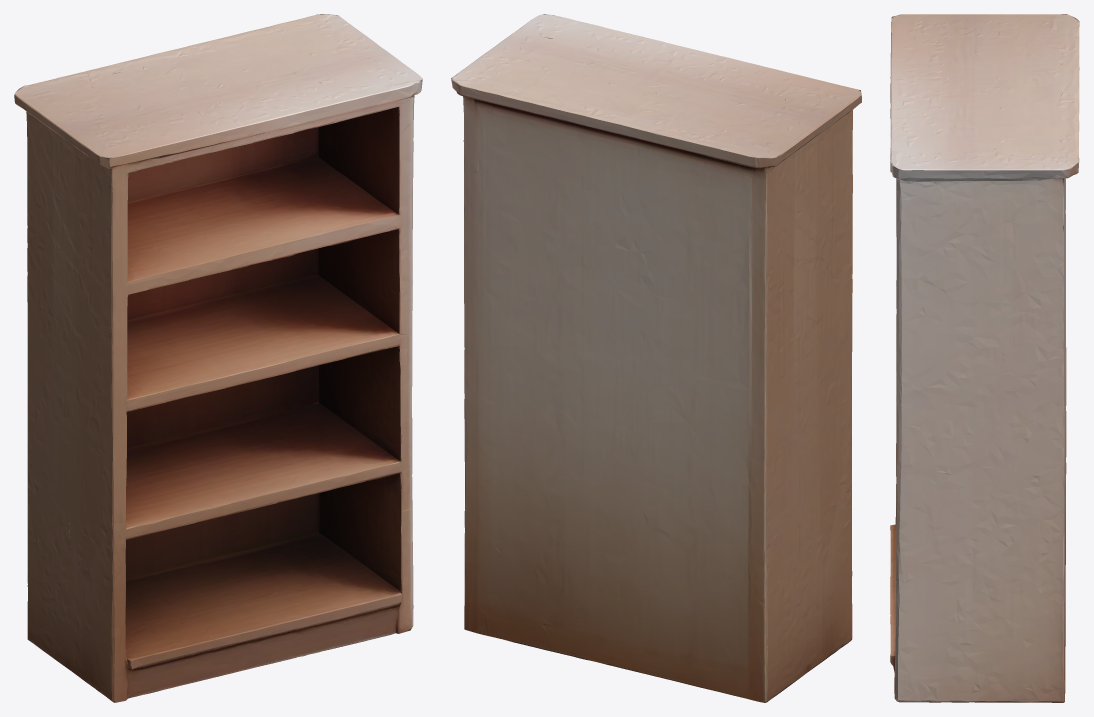
File: ast_1d5625a52638.glb
The picture shows the model from 3 angles, left to right: view 1: azimuth 30°, elevation 25°; view 2: azimuth 150°, elevation 25°; view 3: azimuth 270°, elevation 25°; orthographic projection. The views are drawn at different scales.
Visible parts, largest first — view 1: geometry_0; view 2: geometry_0; view 3: geometry_0.
Part boxes in pixels (x1,y1,x2,y2): geometry_0: (14,14,422,702); geometry_0: (451,14,861,702); geometry_0: (890,14,1079,702).
Bounding box in the file's own units: 0.6201 × 1 × 0.3179.
1 material, 1 textured.
